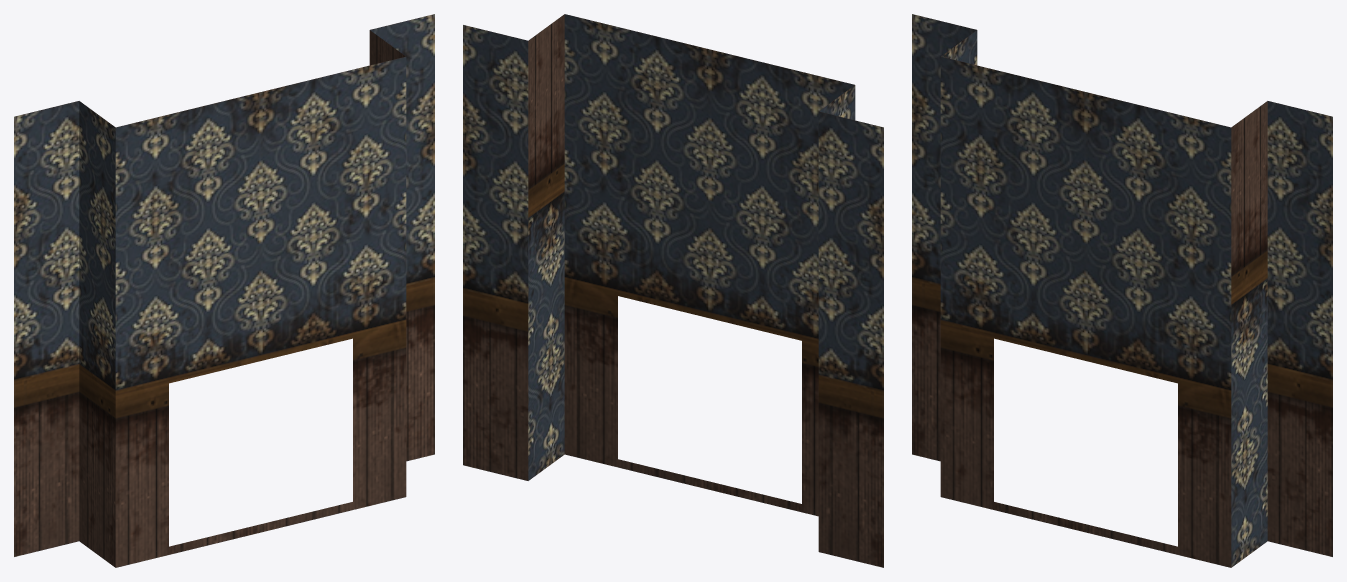
The model's file is wall_blue_010.obj.
3 renders of one model, left to right at view 1: azimuth 30°, elevation 25°; view 2: azimuth 150°, elevation 25°; view 3: azimuth 330°, elevation 25°, orthographic.
Visible parts, largest first — view 1: Wall_Fireplace; view 2: Wall_Fireplace; view 3: Wall_Fireplace.
Part boxes in pixels (bbox=[...]): Wall_Fireplace: bbox=[14, 14, 434, 567]; Wall_Fireplace: bbox=[463, 14, 883, 567]; Wall_Fireplace: bbox=[912, 14, 1332, 567].
Size of the model in its own units: 3 by 3 by 0.4501.
1 material, 1 textured.
